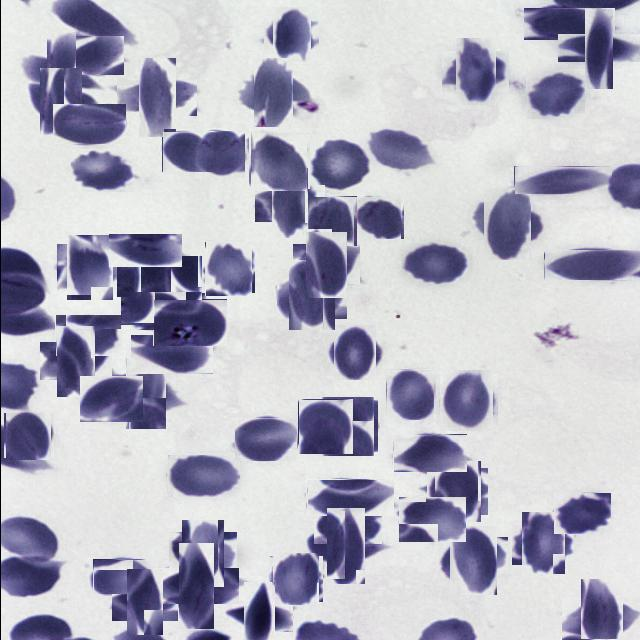red blood cell: (165, 556, 226, 616), (476, 194, 536, 254), (152, 299, 226, 346), (443, 532, 502, 590), (282, 266, 341, 324), (128, 68, 186, 127), (250, 132, 308, 190), (316, 517, 374, 575), (166, 453, 240, 498), (306, 479, 394, 516), (130, 335, 212, 374), (438, 372, 494, 429), (60, 240, 116, 296), (319, 398, 375, 454), (118, 365, 174, 421), (32, 73, 88, 129), (397, 496, 465, 542), (570, 588, 630, 640), (571, 20, 626, 76), (298, 399, 353, 454), (174, 526, 230, 580), (543, 249, 639, 280), (448, 44, 502, 99), (429, 464, 484, 518), (245, 66, 300, 120), (33, 46, 88, 100), (525, 69, 584, 119), (52, 104, 125, 144), (48, 334, 102, 388), (298, 238, 352, 292), (124, 252, 178, 306), (523, 8, 614, 40), (365, 128, 431, 172), (399, 242, 468, 284), (79, 376, 142, 422), (262, 177, 316, 230), (54, 314, 121, 356), (392, 434, 466, 472), (516, 516, 568, 570), (70, 149, 134, 192), (312, 139, 367, 189), (513, 166, 611, 194), (313, 506, 381, 546), (153, 259, 205, 311), (234, 418, 296, 461), (118, 577, 170, 628), (120, 291, 186, 330), (202, 244, 252, 295), (306, 196, 356, 246), (270, 554, 320, 604), (233, 590, 282, 640), (385, 369, 433, 420), (108, 234, 181, 267), (329, 328, 378, 377), (62, 36, 123, 75), (194, 131, 244, 178), (553, 493, 610, 534), (4, 412, 52, 459), (267, 11, 314, 58), (352, 196, 403, 239), (161, 131, 213, 172), (92, 559, 150, 594)
